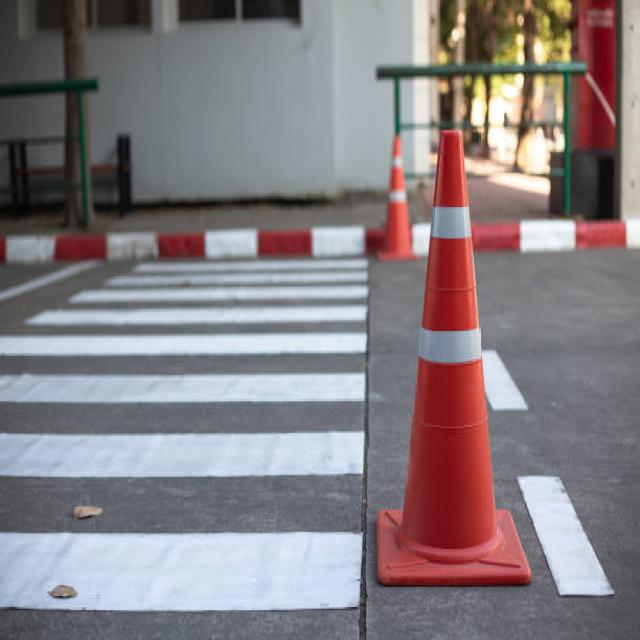Traffic Cone: (364, 96, 542, 617), (367, 102, 424, 280)
